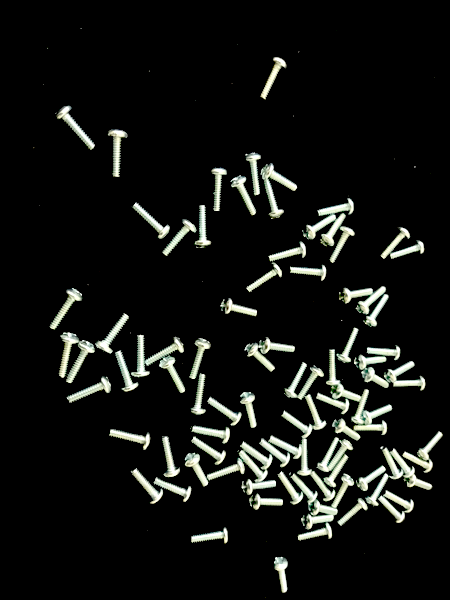shortscrew: (54, 104, 96, 151), (92, 313, 130, 354), (48, 288, 84, 331), (131, 202, 171, 240), (64, 340, 95, 385), (162, 218, 197, 257), (66, 375, 112, 404), (144, 337, 185, 368), (244, 263, 284, 294), (261, 56, 288, 100), (131, 469, 164, 504), (229, 175, 257, 216), (106, 128, 129, 177), (206, 396, 242, 427), (190, 436, 227, 466), (260, 163, 298, 191), (159, 356, 187, 394), (281, 362, 309, 400), (380, 226, 411, 260), (114, 351, 139, 393), (57, 333, 80, 378), (262, 177, 286, 220), (329, 226, 355, 265), (320, 212, 348, 248), (243, 342, 276, 372), (353, 286, 386, 316), (280, 409, 313, 439), (238, 450, 268, 483), (277, 471, 305, 506), (153, 478, 192, 503), (301, 214, 337, 241), (298, 365, 325, 401), (187, 339, 211, 379), (336, 498, 369, 526), (362, 295, 389, 329), (240, 443, 274, 470), (109, 430, 152, 451), (208, 167, 228, 212), (289, 473, 319, 503), (208, 458, 245, 482), (193, 205, 213, 249), (266, 242, 306, 264), (184, 452, 209, 487), (315, 437, 340, 472), (260, 440, 290, 469), (323, 455, 349, 488), (335, 328, 359, 363), (365, 473, 389, 508), (310, 470, 336, 502), (243, 153, 262, 196), (132, 335, 151, 378), (380, 446, 404, 480), (305, 394, 327, 431), (327, 439, 354, 469), (355, 467, 387, 492), (190, 425, 230, 445), (387, 240, 425, 261), (267, 437, 303, 459), (417, 432, 444, 461), (332, 475, 355, 509), (189, 526, 228, 546), (390, 448, 415, 479), (315, 393, 350, 415), (162, 438, 181, 478), (188, 374, 206, 415), (220, 298, 258, 317), (289, 264, 327, 283), (317, 198, 355, 217), (380, 496, 406, 523), (239, 392, 258, 428), (297, 523, 333, 542), (359, 367, 390, 389), (384, 362, 415, 384), (258, 337, 295, 355), (403, 453, 434, 474), (384, 492, 415, 513), (338, 287, 374, 305), (296, 439, 313, 477), (333, 418, 361, 441), (249, 494, 284, 512), (365, 344, 401, 361), (325, 349, 341, 387), (362, 405, 393, 424), (242, 479, 276, 496), (272, 558, 288, 593), (391, 376, 427, 391), (331, 385, 362, 402), (308, 500, 339, 517), (353, 421, 388, 436), (354, 356, 387, 371), (301, 515, 334, 530), (406, 474, 433, 491)
